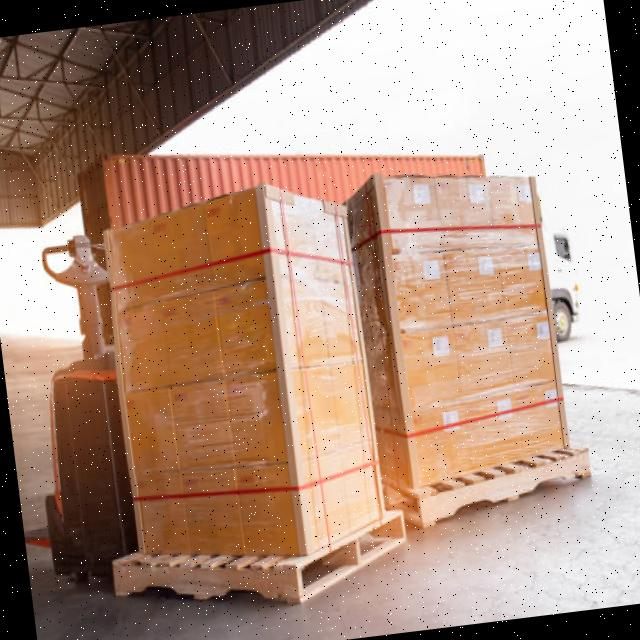Wooden-Pallets: (108, 494, 412, 612), (413, 436, 598, 543)
